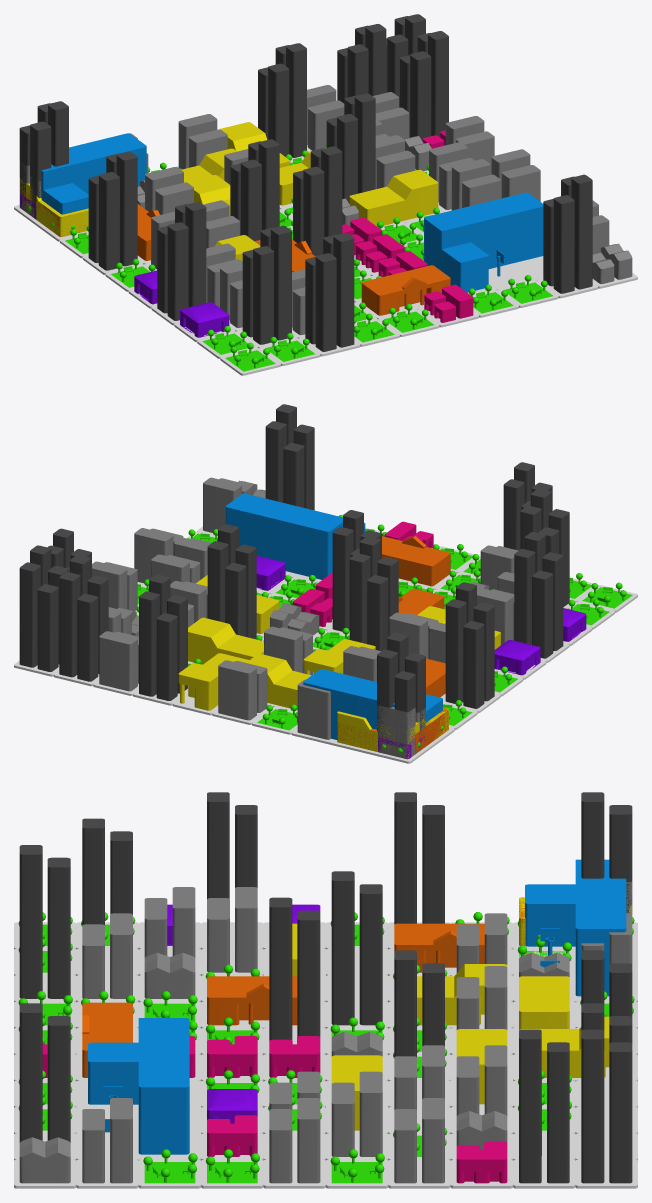
3 renders of one model, top to bottom at view 1: azimuth 30°, elevation 25°; view 2: azimuth 150°, elevation 25°; view 3: azimuth 270°, elevation 25°, orthographic. The views are drawn at different scales.
Parts seen in each view (by area): view 1: Work_1x1 (×13), ABloc_1x1 (×15), School_2x3 (×2), Park_1x1 (×10), SCenter_2x1 (×3), BStore_1x1 (×4), SCenter_1x2 (×3), RStore_2x1, GStore_1x1 (×2), APlex_1x1 (×2), RStore_1x2 (×2); view 2: Work_1x1 (×13), ABloc_1x1 (×17), School_2x3 (×2), SCenter_2x1 (×4), Park_1x1 (×8), SCenter_1x2 (×2), GStore_1x1 (×3), RStore_2x1, RStore_1x2 (×3), BStore_1x1 (×2), APlex_1x1; view 3: Work_1x1 (×13), ABloc_1x1 (×14), School_2x3 (×2), Park_1x1 (×15), APlex_1x1 (×5), BStore_1x1 (×4), SCenter_2x1 (×4), RStore_1x2 (×2), SCenter_1x2 (×2), GStore_1x1 (×3), RStore_2x1.
Part boxes in pixels (box(x1,y1,x2,y2)): Work_1x1 (×13): box(19, 14, 598, 356); ABloc_1x1 (×15): box(145, 85, 609, 338); School_2x3 (×2): box(14, 133, 543, 295); Park_1x1 (×10): box(59, 217, 558, 375); SCenter_2x1 (×3): box(181, 147, 443, 228); BStore_1x1 (×4): box(342, 217, 479, 327); SCenter_1x2 (×3): box(16, 122, 290, 236); RStore_2x1: box(356, 265, 450, 319); GStore_1x1 (×2): box(128, 270, 234, 342); APlex_1x1 (×2): box(404, 136, 637, 288); RStore_1x2 (×2): box(137, 204, 315, 272); Work_1x1 (×13): box(14, 404, 575, 756); ABloc_1x1 (×17): box(92, 477, 518, 762); School_2x3 (×2): box(225, 493, 454, 763); SCenter_2x1 (×4): box(188, 575, 426, 762); Park_1x1 (×8): box(252, 544, 637, 734); SCenter_1x2 (×2): box(172, 639, 375, 715); GStore_1x1 (×3): box(256, 555, 592, 679); RStore_2x1: box(382, 536, 456, 589); RStore_1x2 (×3): box(378, 588, 448, 754); BStore_1x1 (×2): box(293, 521, 439, 630); APlex_1x1: box(270, 603, 319, 638); Work_1x1 (×13): box(14, 792, 637, 1188); ABloc_1x1 (×14): box(76, 887, 637, 1188); School_2x3 (×2): box(76, 859, 637, 1160); Park_1x1 (×15): box(14, 912, 575, 1188); APlex_1x1 (×5): box(14, 952, 575, 1188); BStore_1x1 (×4): box(201, 1036, 513, 1188); SCenter_2x1 (×4): box(263, 923, 575, 1133); RStore_1x2 (×2): box(201, 923, 513, 1028); SCenter_1x2 (×2): box(388, 964, 637, 1081); GStore_1x1 (×3): box(138, 904, 325, 1133); RStore_2x1: box(76, 1002, 138, 1081).
Bounding box in the file's own units: 10 × 2.6 × 10.
